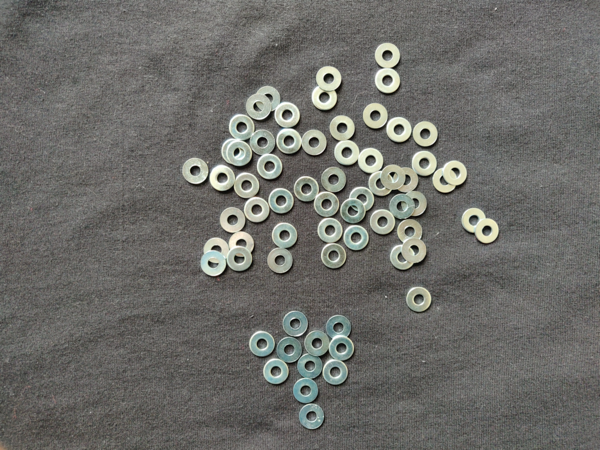circle: (267, 187, 296, 216), (267, 247, 297, 275), (210, 165, 236, 192), (375, 43, 402, 69), (204, 238, 230, 264), (299, 404, 325, 430), (244, 197, 270, 223), (344, 225, 370, 251), (183, 158, 209, 184), (370, 210, 396, 236), (359, 148, 385, 174), (312, 85, 338, 111), (222, 139, 248, 165), (229, 115, 255, 141), (201, 251, 226, 277), (227, 247, 253, 272), (229, 232, 255, 257), (264, 359, 289, 385), (220, 208, 245, 234), (305, 331, 330, 357), (277, 337, 302, 363), (314, 192, 339, 218), (318, 218, 343, 244), (391, 245, 416, 271), (235, 173, 260, 199), (257, 154, 283, 179), (369, 171, 394, 197), (335, 140, 360, 166), (330, 116, 356, 141), (302, 130, 327, 156), (275, 103, 301, 128), (246, 95, 272, 120), (250, 129, 275, 155), (227, 141, 252, 167), (414, 121, 439, 147), (364, 103, 389, 129), (375, 69, 402, 93), (250, 332, 275, 357), (294, 379, 319, 404), (298, 354, 323, 379), (323, 360, 348, 385), (283, 312, 308, 337), (273, 224, 298, 249), (322, 167, 347, 192), (407, 288, 432, 313), (402, 238, 427, 263), (390, 194, 415, 219), (394, 167, 419, 192), (381, 165, 406, 190), (350, 187, 375, 212), (277, 129, 302, 154), (256, 86, 281, 111), (412, 151, 437, 176), (398, 220, 424, 244), (317, 66, 341, 92), (463, 208, 487, 234), (330, 337, 355, 361), (327, 316, 352, 340), (295, 177, 319, 202), (322, 244, 346, 269), (403, 191, 427, 216), (433, 168, 457, 193), (443, 161, 467, 186), (387, 118, 412, 142), (476, 219, 500, 244), (341, 199, 366, 223)
